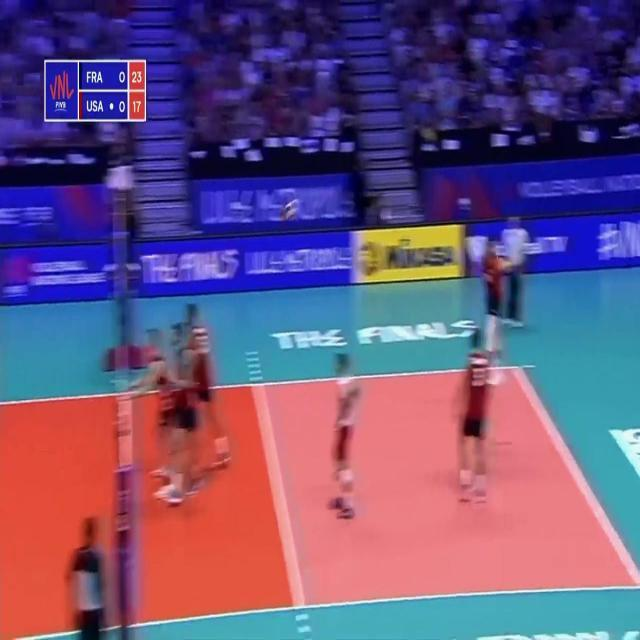volleyball: (286, 199, 300, 220)
